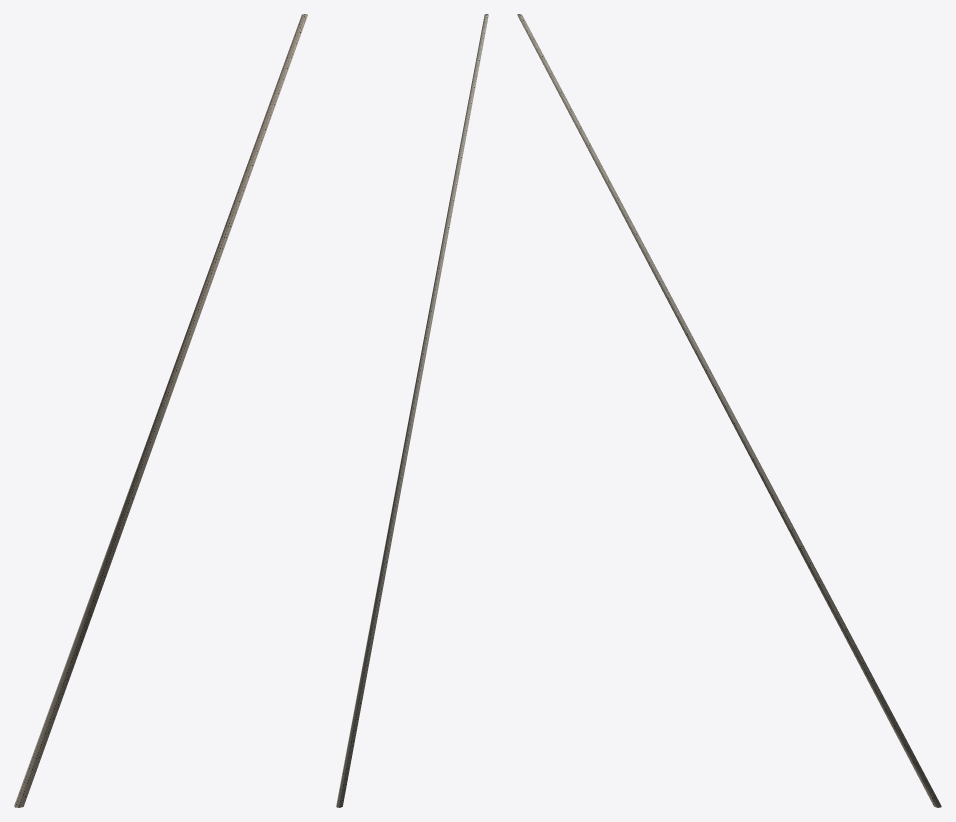
Rendered from sphere.016_lev2.glb.
The picture shows the model from 3 angles, left to right: view 1: azimuth 30°, elevation 25°; view 2: azimuth 150°, elevation 25°; view 3: azimuth 270°, elevation 25°; orthographic projection. The views are drawn at different scales.
Visible parts, largest first — view 1: sphere.016_lev2; view 2: sphere.016_lev2; view 3: sphere.016_lev2.
Boxes of the visible parts, <box> form: sphere.016_lev2: <box>14,14,307,807</box>; sphere.016_lev2: <box>336,14,488,807</box>; sphere.016_lev2: <box>517,14,941,807</box>.
Size of the model in its own units: 0.061 by 1.32 by 0.6297.
Materials: 1 (1 with a texture image).
